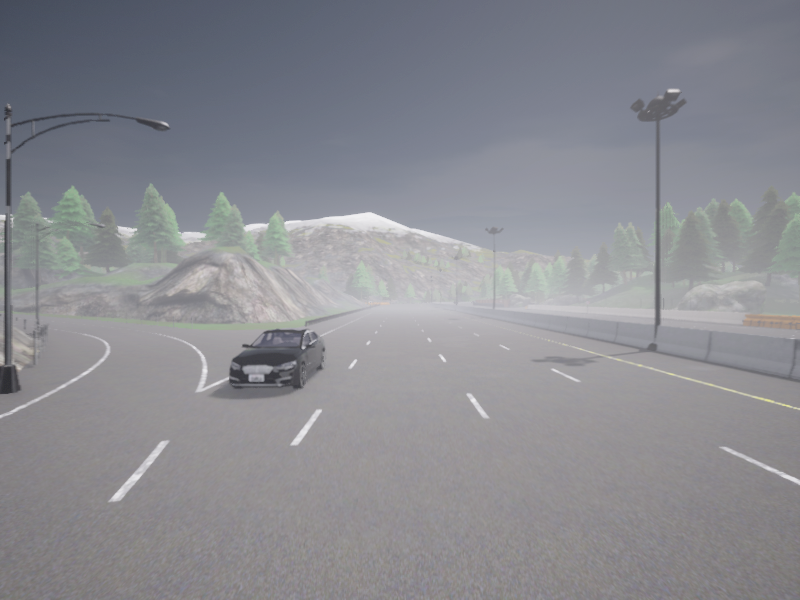vehicle: (229, 328, 325, 388), (472, 300, 475, 303), (454, 301, 458, 303)
